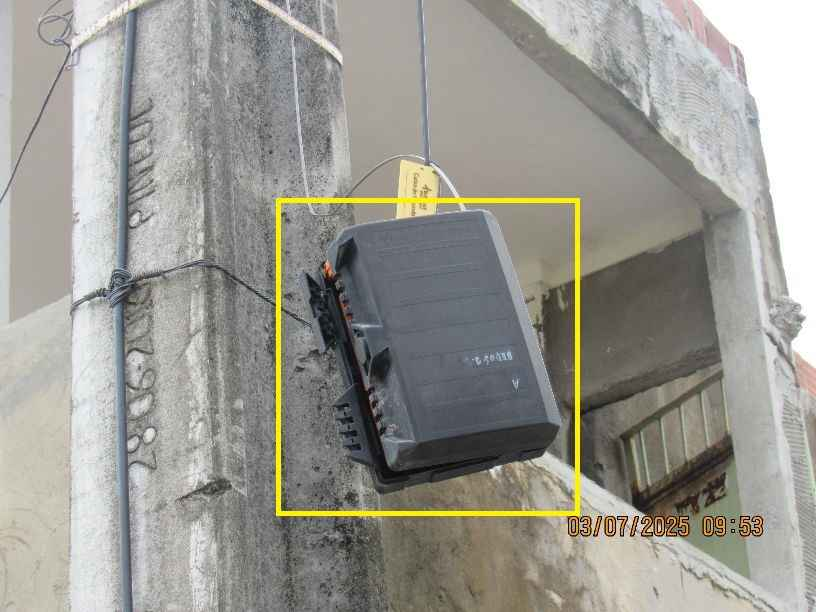caixa_derivacao: (310, 217, 559, 493)
poste: (74, 2, 381, 612)
